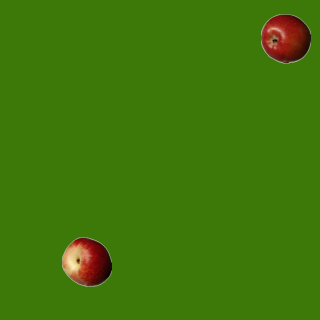Apple Braeburn: (260, 13, 310, 63)
Nectarine: (61, 236, 111, 286)
